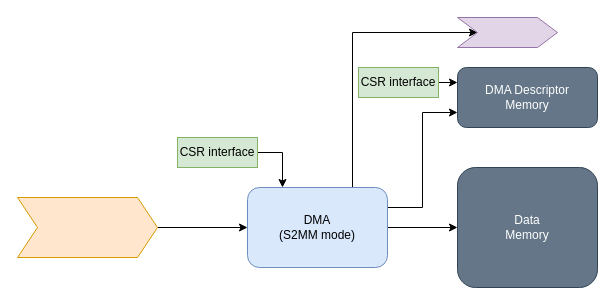
Image size: 615x305. Some labels were removed from this diagram. Here are the shapes that lost their labels. From the top down, the centre of each, then its label:
(507,32): Interrupt
(87,227): Data source (AXI4-Stream)
